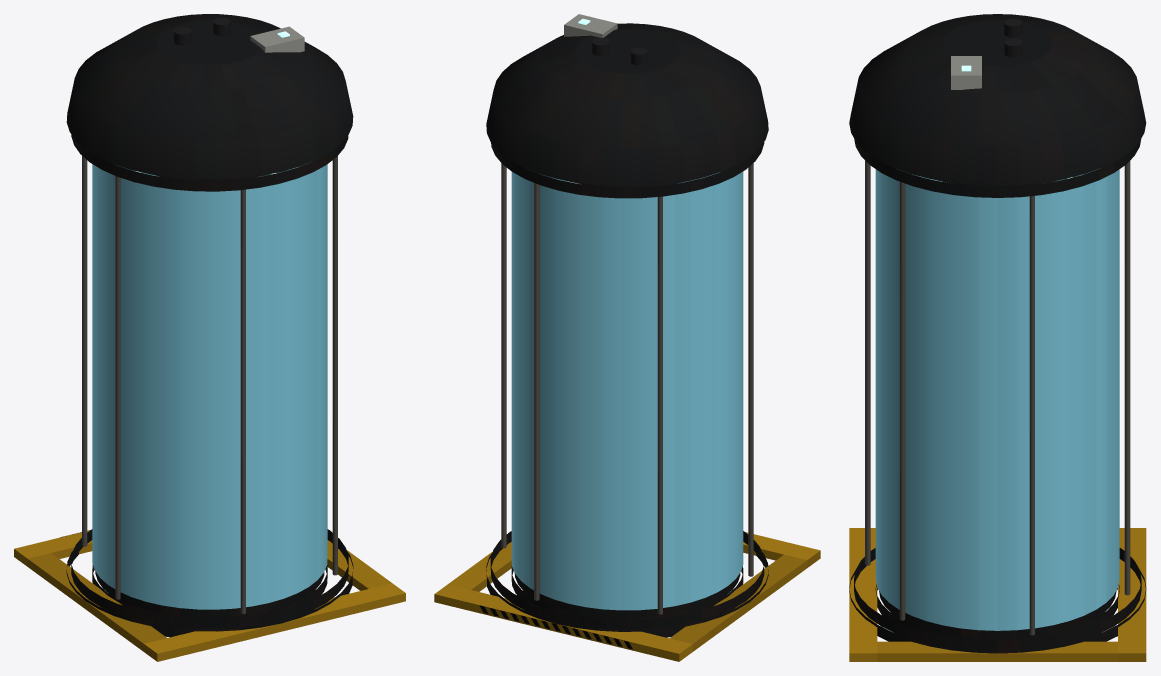
The model's file is spawn_tube.glb.
3 renders of one model, left to right at view 1: azimuth 30°, elevation 25°; view 2: azimuth 150°, elevation 25°; view 3: azimuth 270°, elevation 25°, orthographic. The views are drawn at different scales.
Visible parts, largest first — view 1: Glass, Body; view 2: Glass, Body; view 3: Glass, Body.
Boxes of the visible parts, <box> form: Glass: <box>92,164,327,609</box>; Body: <box>14,14,405,661</box>; Glass: <box>511,169,743,610</box>; Body: <box>434,14,820,661</box>; Glass: <box>875,168,1119,630</box>; Body: <box>849,14,1146,661</box>.
Size of the model in its own units: 1.9 by 4 by 1.9.
